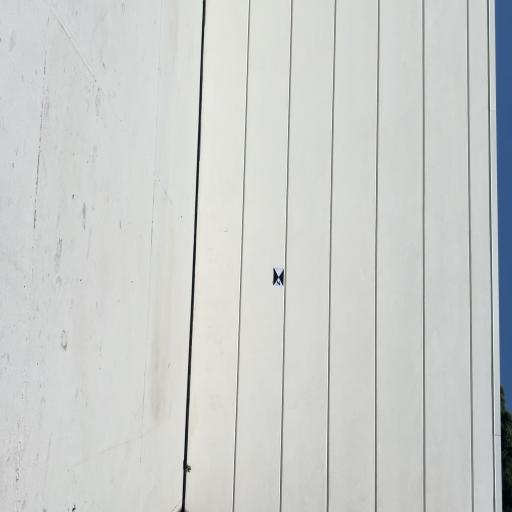target7: (272, 267, 284, 286)
